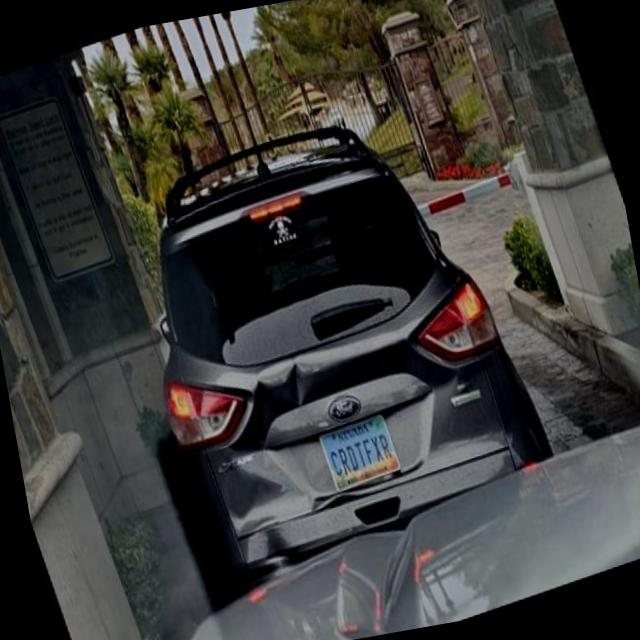LicensePlate: (317, 413, 401, 492)
